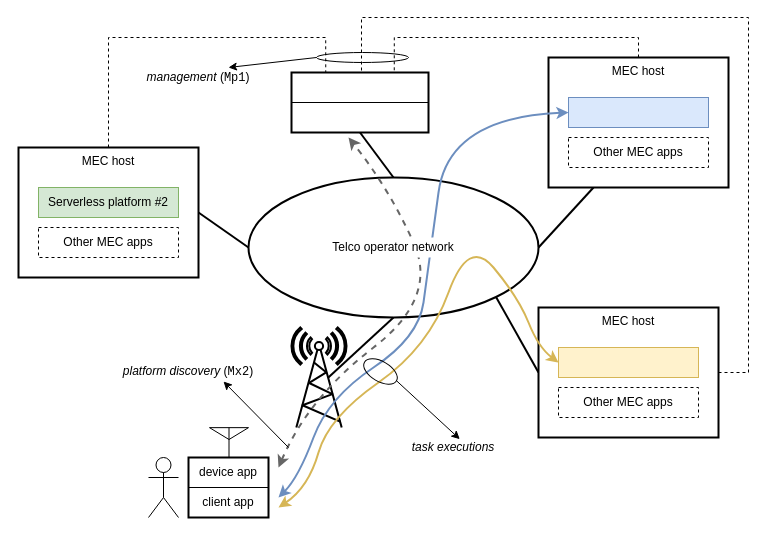
The diagram is 767 pixels wide and 556 high, and some of its shapes have lost their labels. Here are the shapes that lost their labels. From the top down, the centre of each, then its label:
[359,87]: MEC orchestrator
[359,117]: UE app LCM proxy
[638,112]: Serverless platform #1
[628,362]: Serverless platform #3
[163,487]: User terminal
